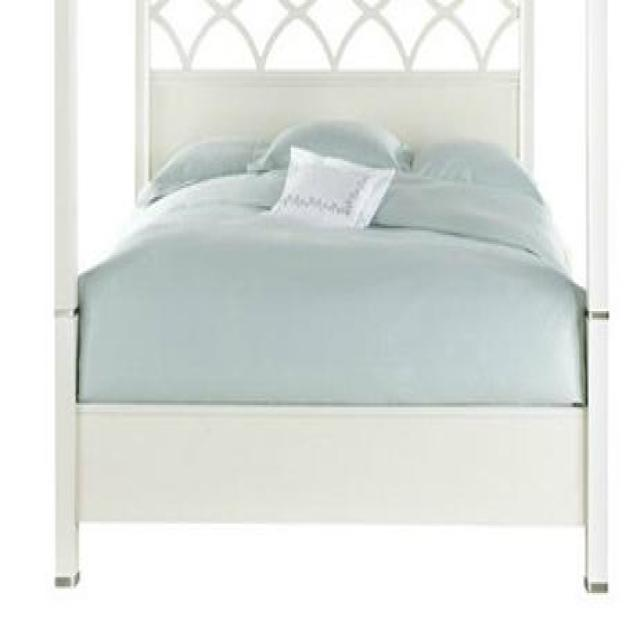bed: (54, 110, 608, 593)
